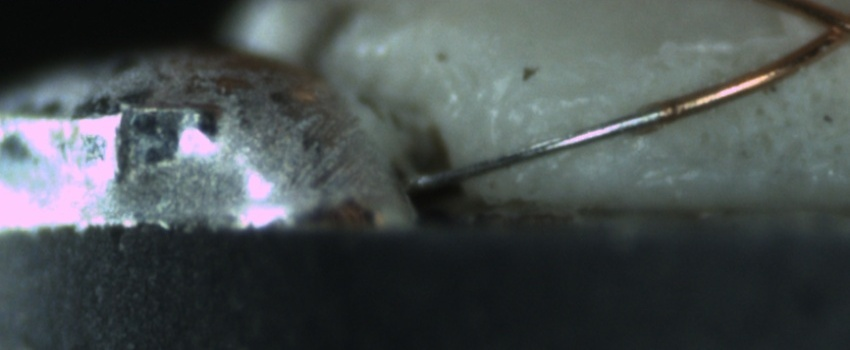CL: (794, 3, 850, 58)
TS: (404, 108, 668, 189)
